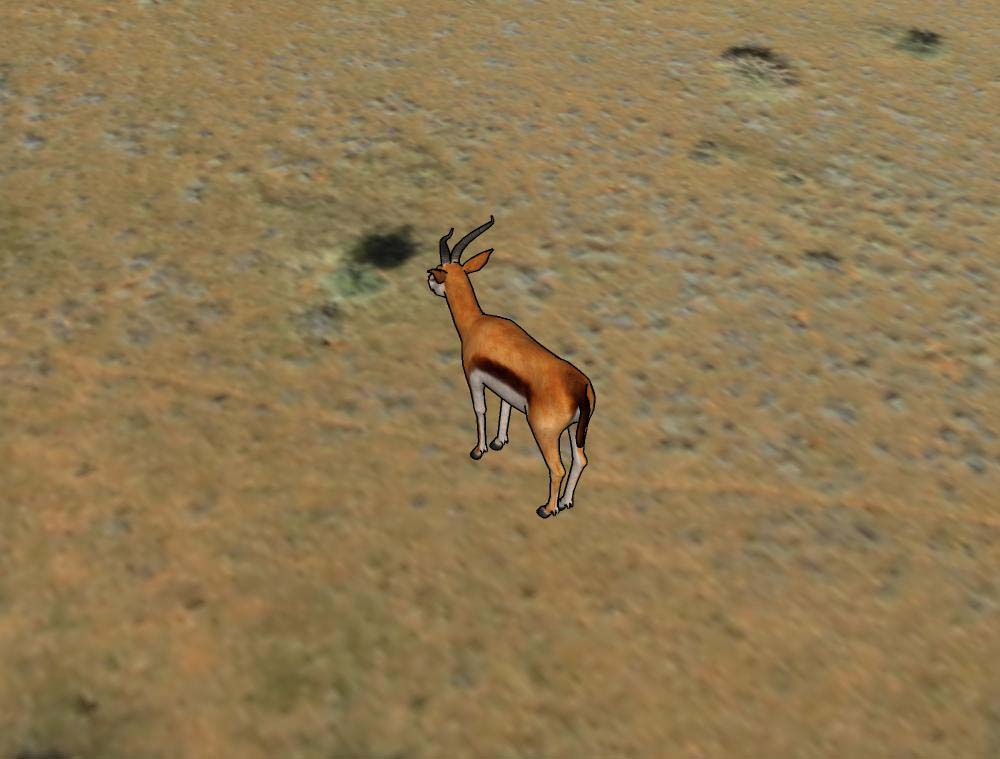springbok: (426, 216, 599, 519)
